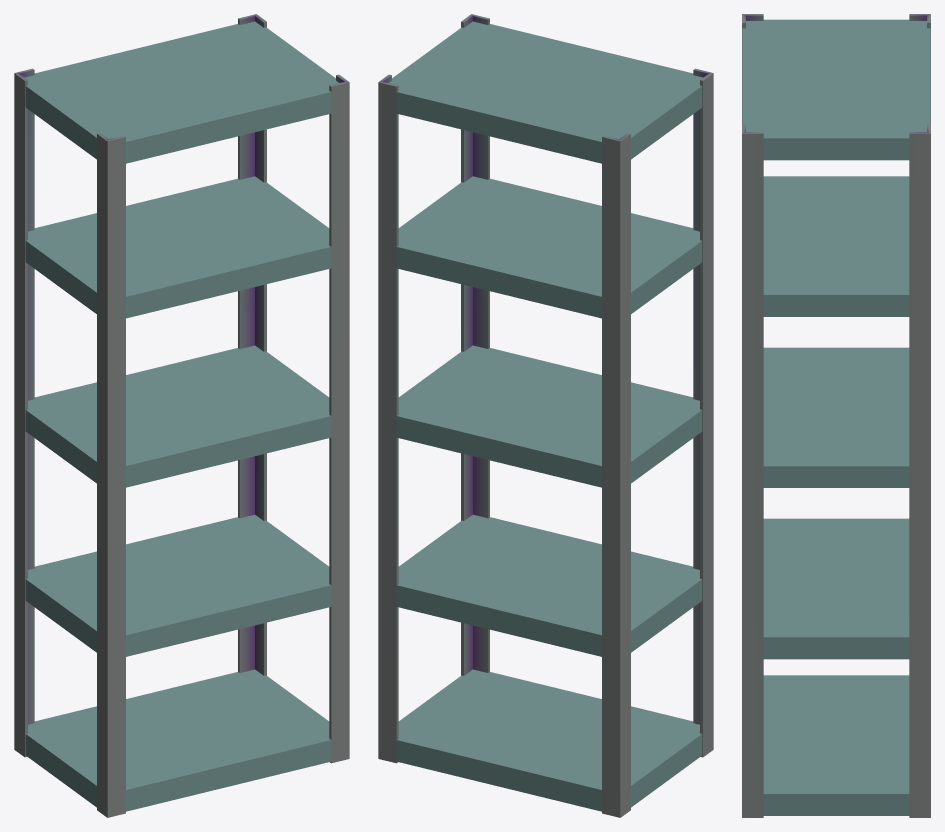
The model's file is simready-shelve_steel_heavyDuty_a06.glb.
3 renders of one model, left to right at view 1: azimuth 30°, elevation 25°; view 2: azimuth 150°, elevation 25°; view 3: azimuth 270°, elevation 25°, orthographic.
Visible parts, largest first — view 1: tray.004, tray, tray.002, tray.001, tray.003, angle.001, angle, angle.003, angle.002; view 2: tray.004, tray, tray.002, tray.001, tray.003, angle.003, angle.002, angle.001, angle; view 3: tray.004, tray.001, tray, tray.003, tray.002, angle.002, angle.
Part boxes in pixels (left/top/right/bottom): tray.004: left=25, top=21, right=338, bottom=163; tray: left=25, top=669, right=331, bottom=811; tray.002: left=25, top=345, right=331, bottom=487; tray.001: left=25, top=514, right=331, bottom=656; tray.003: left=25, top=176, right=331, bottom=318; angle.001: left=97, top=133, right=125, bottom=817; angle: left=329, top=74, right=349, bottom=763; angle.003: left=14, top=68, right=34, bottom=757; angle.002: left=238, top=14, right=266, bottom=675; tray.004: left=389, top=21, right=702, bottom=163; tray: left=396, top=669, right=702, bottom=811; tray.002: left=396, top=345, right=702, bottom=487; tray.001: left=396, top=514, right=702, bottom=656; tray.003: left=396, top=176, right=702, bottom=318; angle.003: left=602, top=133, right=630, bottom=817; angle.002: left=378, top=74, right=398, bottom=763; angle.001: left=693, top=68, right=713, bottom=757; angle: left=461, top=14, right=489, bottom=675; tray.004: left=742, top=19, right=930, bottom=160; tray.001: left=763, top=518, right=909, bottom=659; tray: left=763, top=675, right=909, bottom=815; tray.003: left=763, top=176, right=909, bottom=316; tray.002: left=763, top=347, right=909, bottom=487; angle.002: left=909, top=124, right=930, bottom=817; angle: left=742, top=124, right=763, bottom=817.
Bounding box in the file's own units: 0.914 × 2.44 × 0.61.
